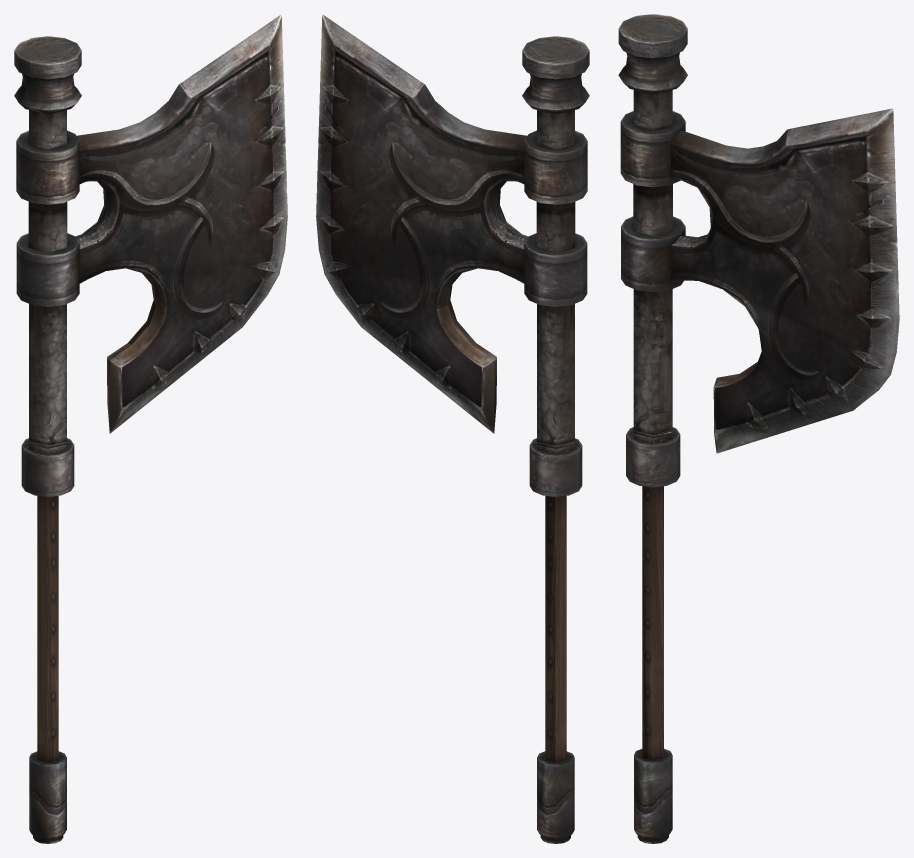
The model's file is Weapon_97.fbx.
The picture shows the model from 3 angles, left to right: view 1: azimuth 30°, elevation 25°; view 2: azimuth 150°, elevation 25°; view 3: azimuth 330°, elevation 25°; orthographic projection. The views are drawn at different scales.
Visible parts, largest first — view 1: Weapon_97; view 2: Weapon_97; view 3: Weapon_97.
Boxes of the visible parts, <box> form: Weapon_97: <box>14,14,287,843</box>; Weapon_97: <box>316,14,589,843</box>; Weapon_97: <box>618,14,899,843</box>.
Bounding box in the file's own units: 50.74 × 11.08 × 142.
